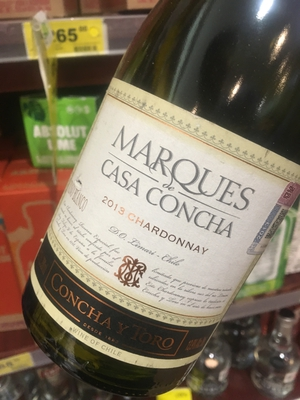marques de casa concha chardonnay: (24, 41, 300, 385)
